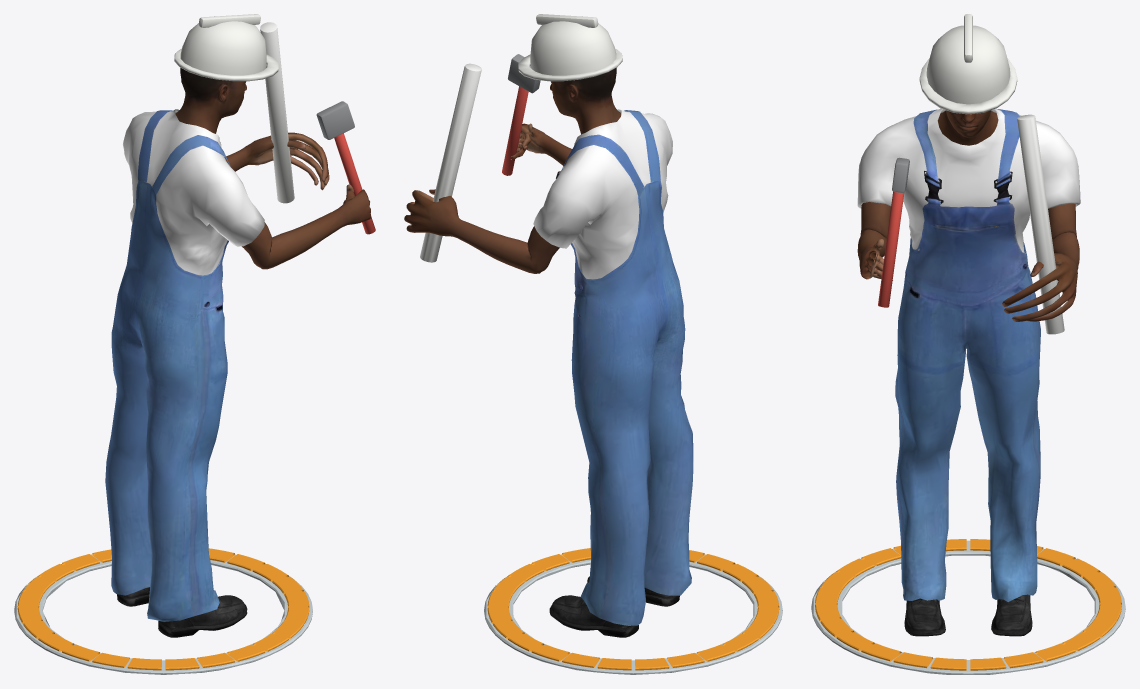
Rendered from MDO-INS-002_lod1.glb.
3 renders of one model, left to right at view 1: azimuth 30°, elevation 25°; view 2: azimuth 150°, elevation 25°; view 3: azimuth 270°, elevation 25°, orthographic. The views are drawn at different scales.
Visible parts, largest first — view 1: MDO-INS-002_pessoa_male_worksuit01, MDO-INS-002_pessoa, MDO-INS-002_capacete, MDO-INS-002_anel_fundo, MDO-INS-002_ferE_tubo, MDO-INS-002_pessoa_shoes04, MDO-INS-002_ferD_mandibula, MDO-INS-002_capacete_aba, MDO-INS-002_ferD_cabo, MDO-INS-002_capacete_friso; view 2: MDO-INS-002_pessoa_male_worksuit01, MDO-INS-002_pessoa, MDO-INS-002_capacete, MDO-INS-002_anel_fundo, MDO-INS-002_ferE_tubo, MDO-INS-002_pessoa_shoes04, MDO-INS-002_ferD_cabo, MDO-INS-002_capacete_aba, MDO-INS-002_ferD_mandibula; view 3: MDO-INS-002_pessoa_male_worksuit01, MDO-INS-002_pessoa, MDO-INS-002_capacete, MDO-INS-002_anel_fundo, MDO-INS-002_ferE_tubo, MDO-INS-002_pessoa_shoes04, MDO-INS-002_capacete_aba, MDO-INS-002_ferD_cabo, MDO-INS-002_ferD_mandibula.
Boxes of the visible parts, x1,y1,x2,y2 form: MDO-INS-002_pessoa_male_worksuit01: (105, 109, 264, 621); MDO-INS-002_pessoa: (175, 68, 371, 269); MDO-INS-002_capacete: (180, 16, 266, 75); MDO-INS-002_anel_fundo: (14, 554, 312, 674); MDO-INS-002_ferE_tubo: (260, 22, 294, 203); MDO-INS-002_pessoa_shoes04: (117, 587, 247, 637); MDO-INS-002_ferD_mandibula: (316, 101, 354, 139); MDO-INS-002_capacete_aba: (174, 48, 278, 81); MDO-INS-002_ferD_cabo: (334, 133, 375, 234); MDO-INS-002_capacete_friso: (198, 14, 260, 27); MDO-INS-002_pessoa_male_worksuit01: (533, 109, 693, 625); MDO-INS-002_pessoa: (404, 68, 621, 273); MDO-INS-002_capacete: (530, 16, 616, 75); MDO-INS-002_anel_fundo: (484, 554, 782, 674); MDO-INS-002_ferE_tubo: (420, 63, 481, 262); MDO-INS-002_pessoa_shoes04: (549, 576, 679, 637); MDO-INS-002_ferD_cabo: (502, 86, 528, 175); MDO-INS-002_capacete_aba: (518, 48, 622, 81); MDO-INS-002_ferD_mandibula: (508, 54, 540, 93); MDO-INS-002_pessoa_male_worksuit01: (857, 108, 1080, 601); MDO-INS-002_pessoa: (857, 110, 1079, 321); MDO-INS-002_capacete: (926, 25, 1010, 104); MDO-INS-002_anel_fundo: (811, 540, 1125, 674); MDO-INS-002_ferE_tubo: (1017, 114, 1064, 334); MDO-INS-002_pessoa_shoes04: (904, 594, 1032, 636); MDO-INS-002_capacete_aba: (919, 58, 1017, 114); MDO-INS-002_ferD_cabo: (878, 191, 904, 307); MDO-INS-002_ferD_mandibula: (892, 157, 909, 192).
Bounding box in the file's own units: 1.04 × 1.82 × 0.84.
11 materials, 5 textured.
